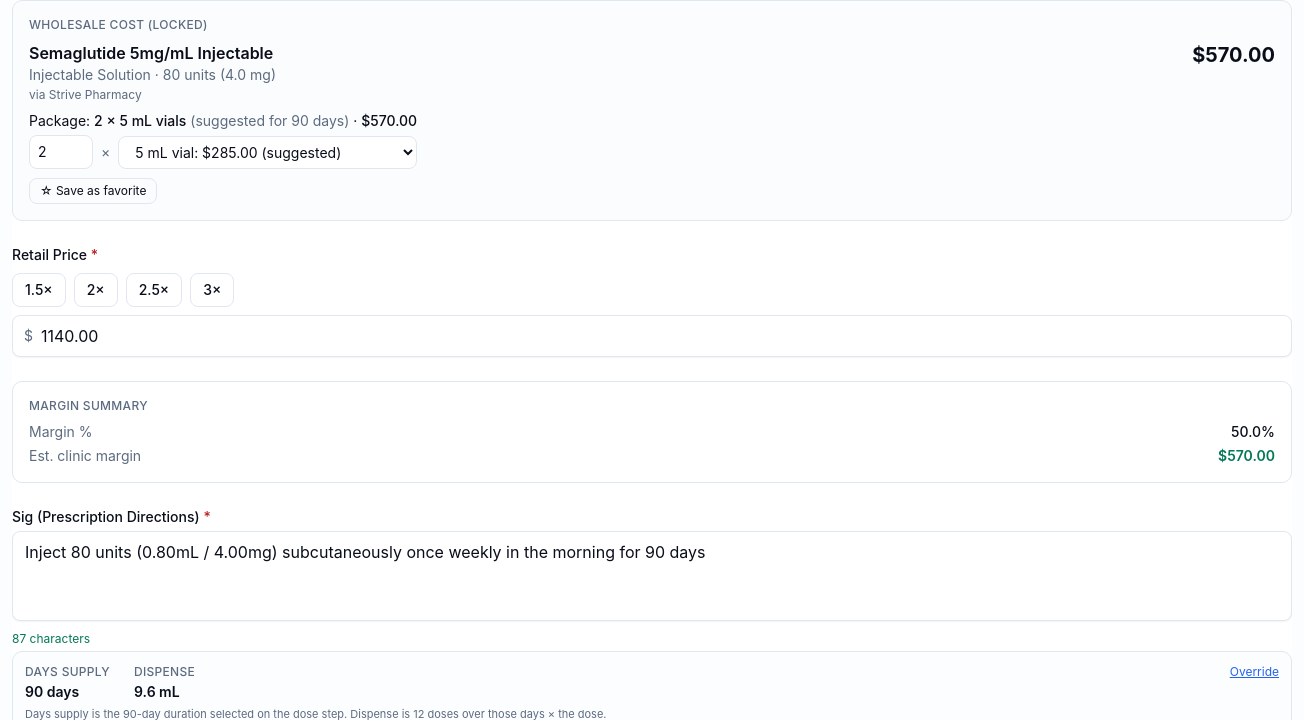
Scenario: MarginBuilderForm — WO-101a package count › the count is clamped to 1..20
Replace the text in the number field named "Number of packages" with "50". click: (61, 152)
box: [29,135,93,169]
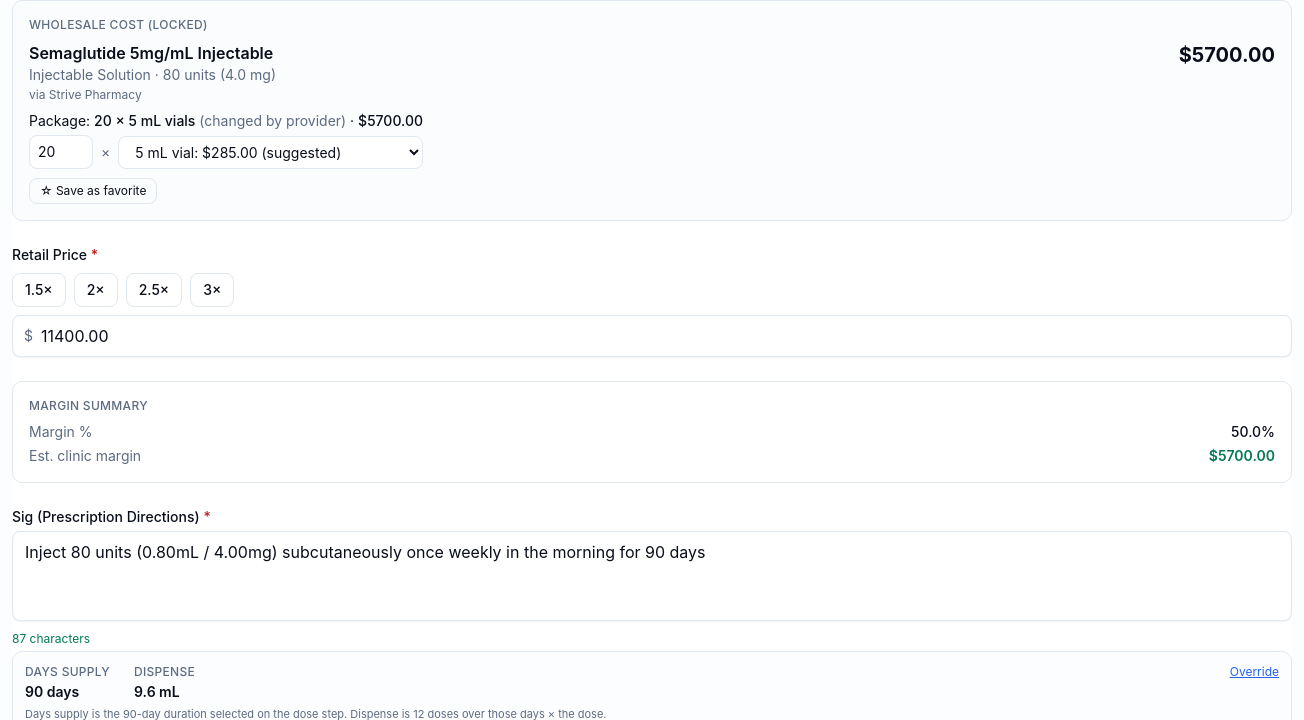
Expected: the number field named "Number of packages" holds "20"
Replace the text in the number field named "Number of packages" with "0". click: (61, 152)
box: [29,135,93,169]
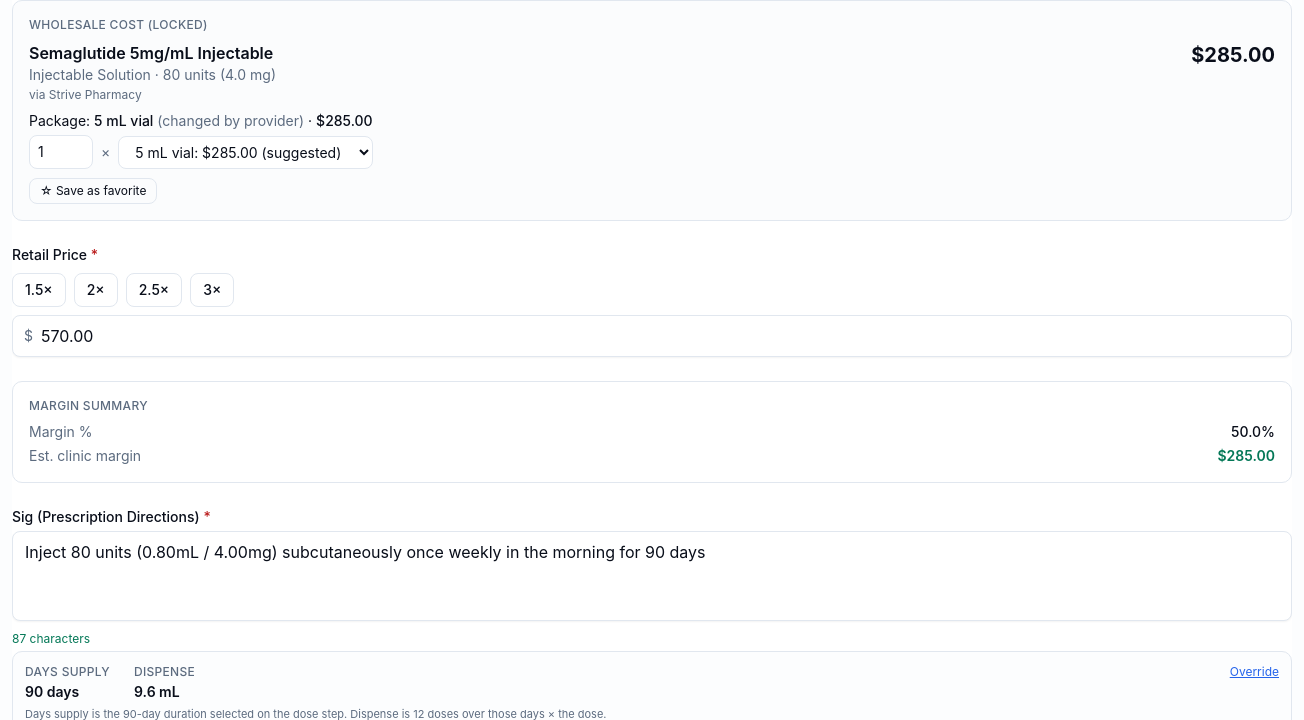
Expected: the number field named "Number of packages" holds "1", [29,135,93,169]
